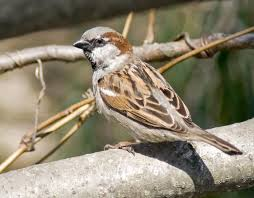hsparrow: (71, 23, 245, 162)
